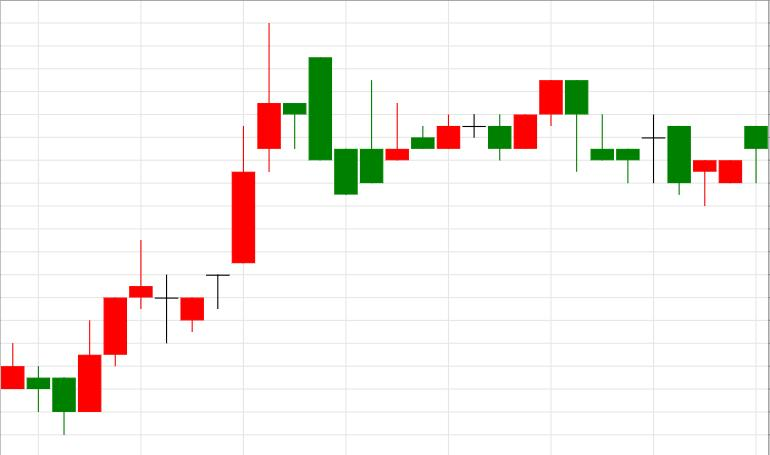hanging_man_fall: (386, 80, 588, 171)
shooting_star_fall: (78, 24, 280, 413)
